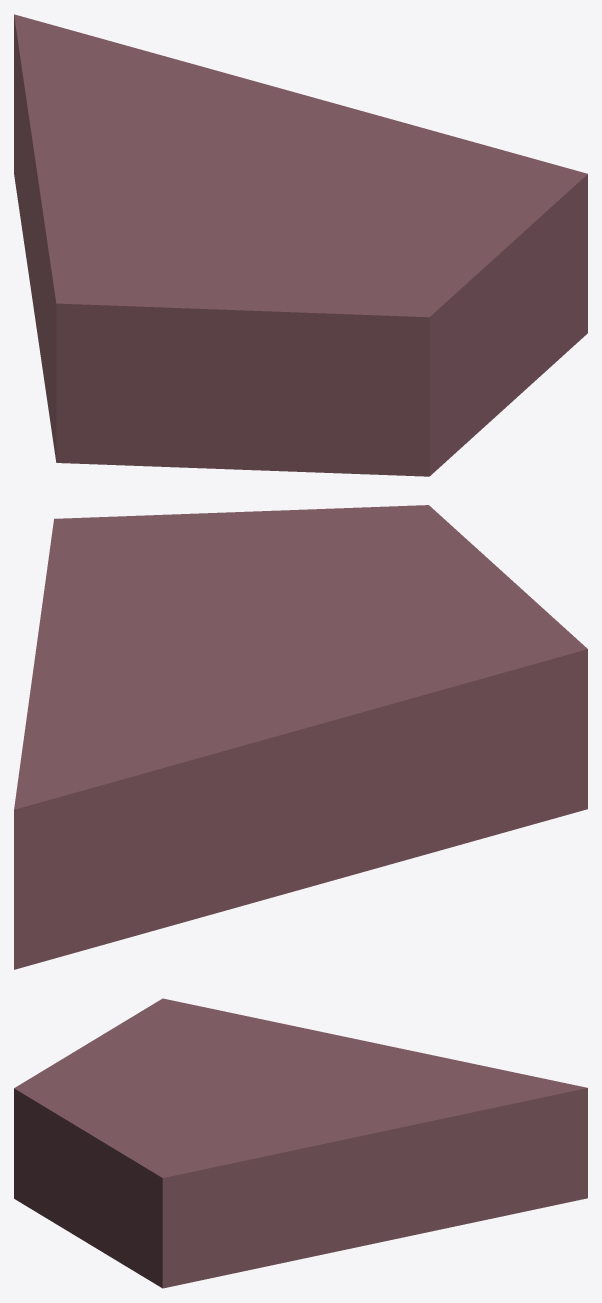
File: enemy_ship.glb
3 renders of one model, top to bottom at view 1: azimuth 30°, elevation 25°; view 2: azimuth 150°, elevation 25°; view 3: azimuth 270°, elevation 25°, orthographic. The views are drawn at different scales.
Parts seen in each view (by area): view 1: Cube; view 2: Cube; view 3: Cube.
Boxes of the visible parts, <box> form: Cube: <box>14,14,587,476</box>; Cube: <box>14,505,587,969</box>; Cube: <box>14,998,587,1288</box>.
Bounding box in the file's own units: 2 × 0.573 × 2.7.
